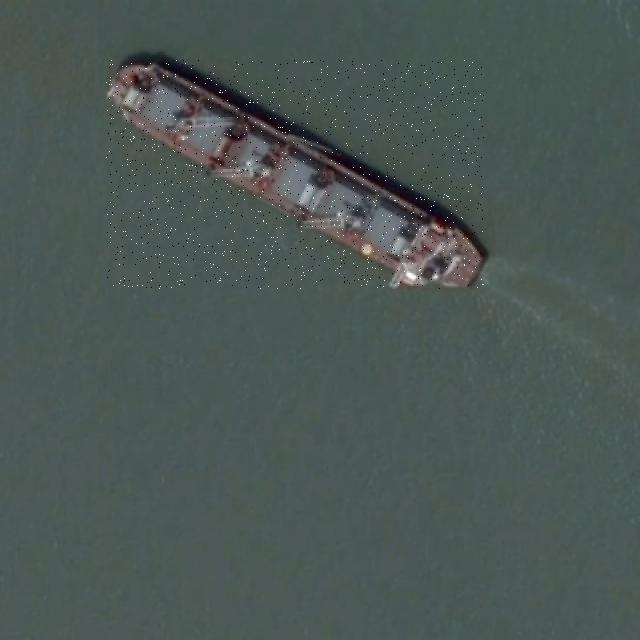boat: (106, 60, 484, 289)
